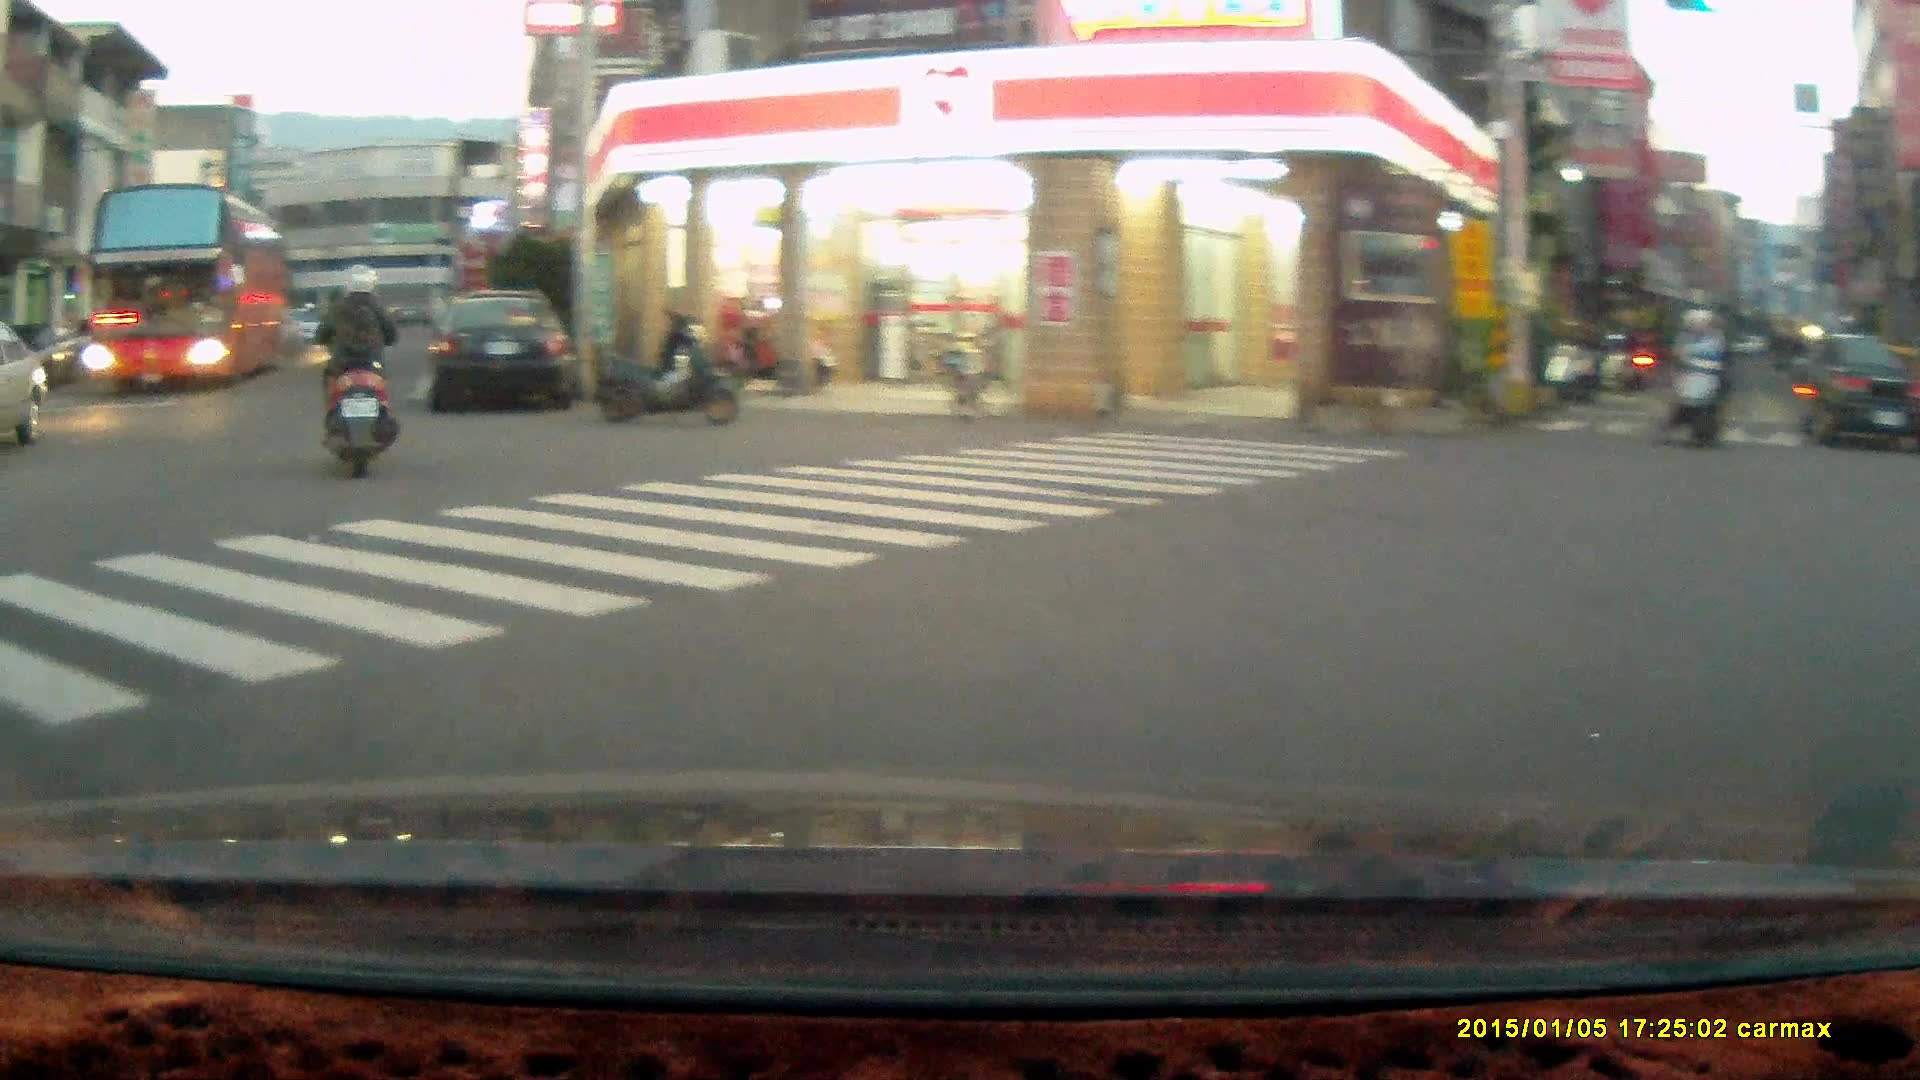rider: (311, 262, 407, 481), (1659, 305, 1730, 453)
vehicle: (84, 182, 290, 390), (424, 290, 577, 411), (1801, 335, 1920, 455)
